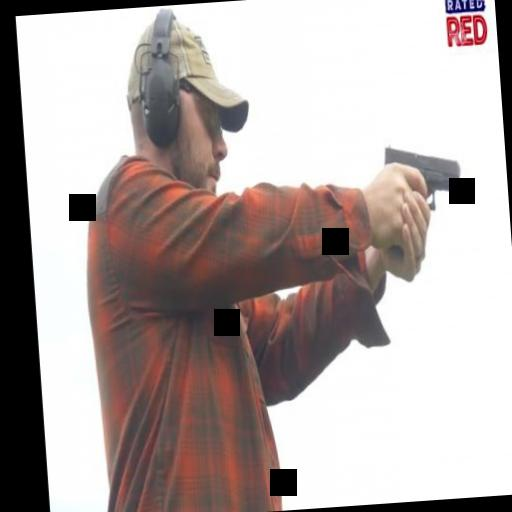Handgun: (376, 138, 468, 260)
